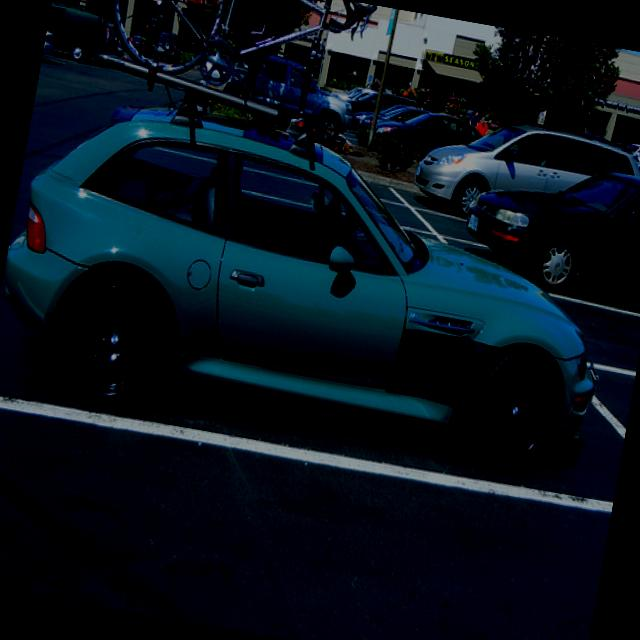Vehicle: (0, 76, 631, 496), (37, 1, 640, 188), (410, 104, 640, 246), (454, 146, 640, 309), (249, 54, 361, 142), (374, 100, 486, 163), (349, 87, 417, 139), (359, 100, 425, 138), (370, 98, 432, 125), (125, 28, 156, 57), (345, 88, 373, 114), (622, 139, 640, 167)
